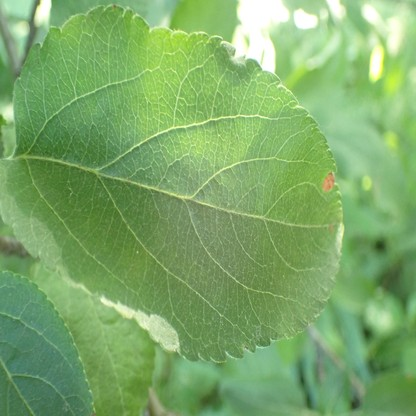frogeye_leaf_spot: (322, 171, 335, 191)
